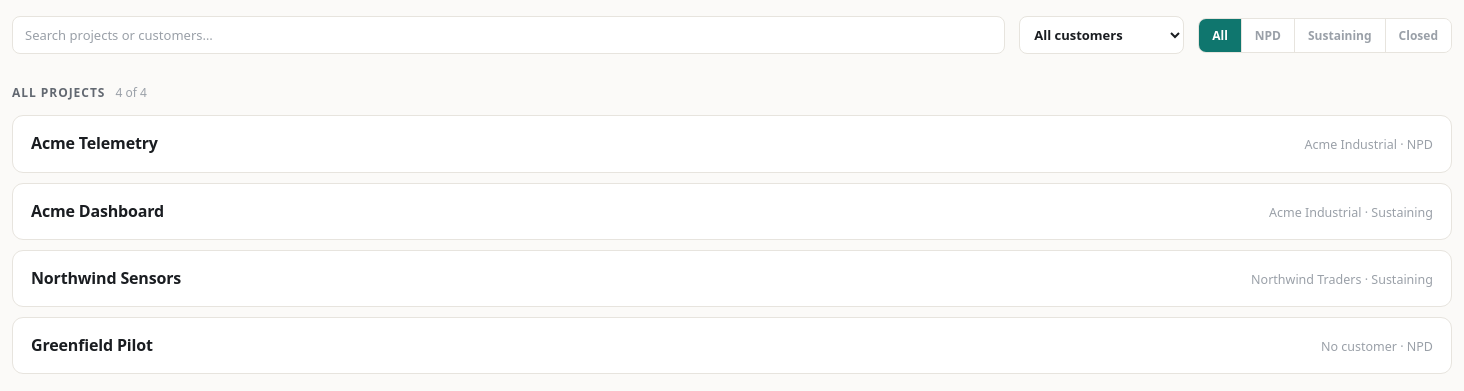
Test case: ProjectsBrowser › filters to projects with no customer
Select "No customer" in the dropdown named "filter by customer" at (1102, 35), box [1019, 16, 1184, 54]
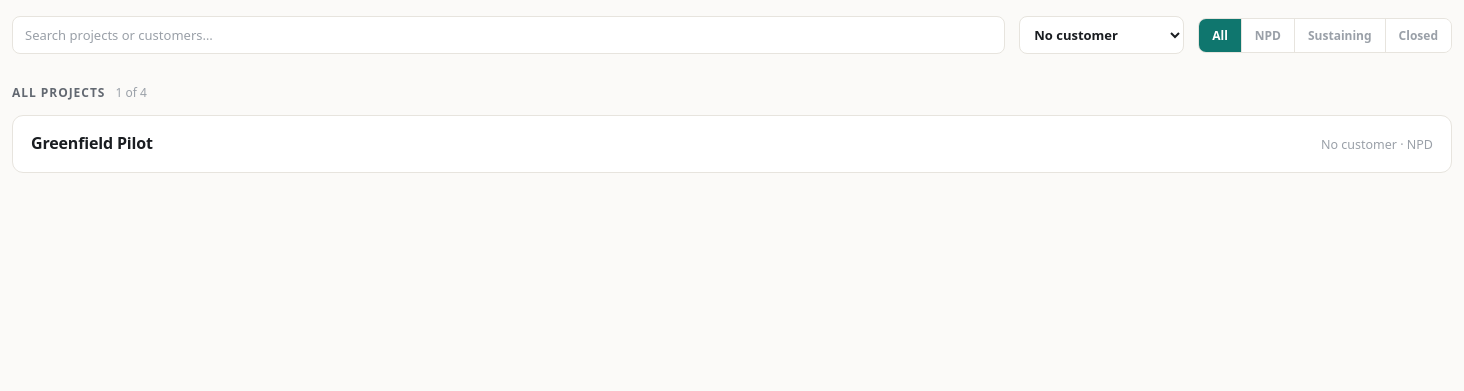
Check: the link shows "Greenfield Pilot", box [12, 115, 1452, 173]
Check: the number of links is 1, box [12, 115, 1452, 173]
